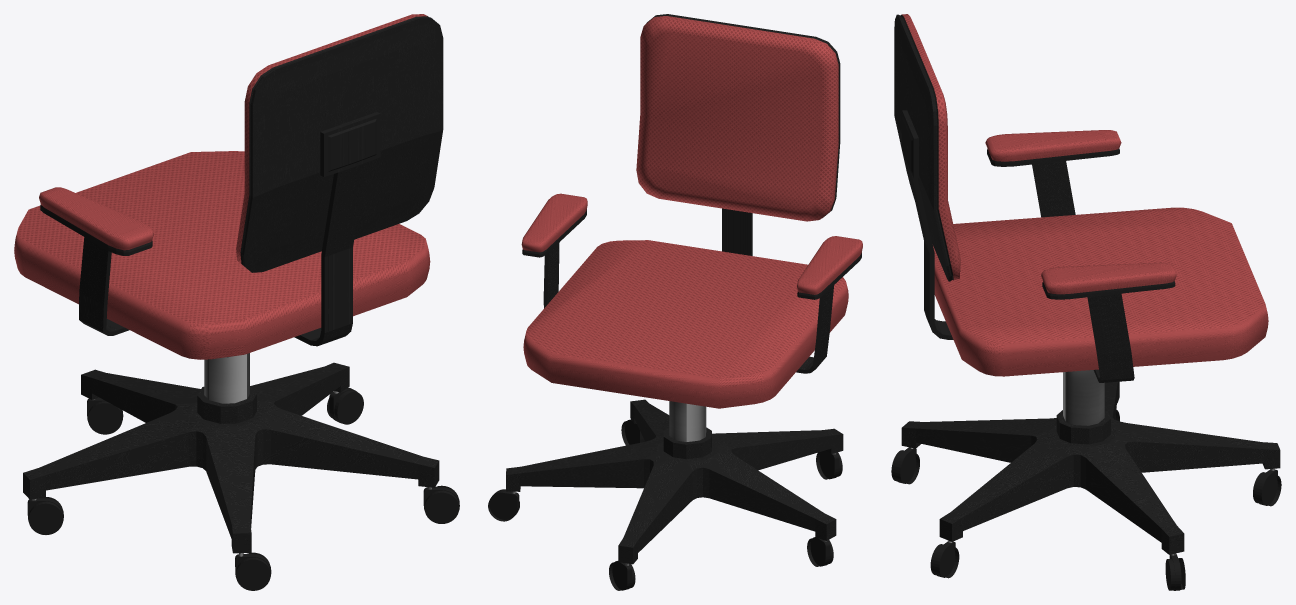
The model's file is office chair.fbx.
3 views of the same model, side by side, from view 1: azimuth 30°, elevation 25°; view 2: azimuth 150°, elevation 25°; view 3: azimuth 270°, elevation 25° (orthographic). The views are drawn at different scales.
Parts seen in each view (by area): view 1: office chair; view 2: office chair; view 3: office chair.
Part boxes in pixels (x1,y1,x2,y2): office chair: (14,14,459,590); office chair: (488,14,862,590); office chair: (891,14,1281,590).
Size of the model in its own units: 73.29 by 97.48 by 72.79.
3 materials, 3 textured.
